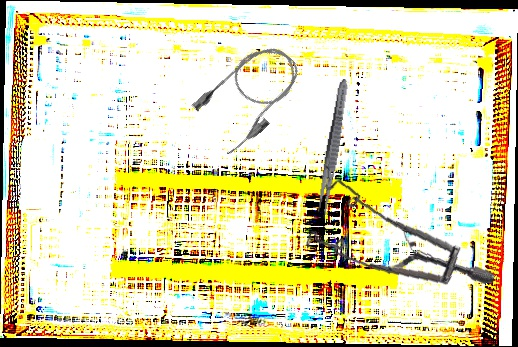Cannula: (186, 33, 314, 160)
Dressing Forceps: (315, 77, 351, 220)
Speculum: (299, 161, 495, 302)
